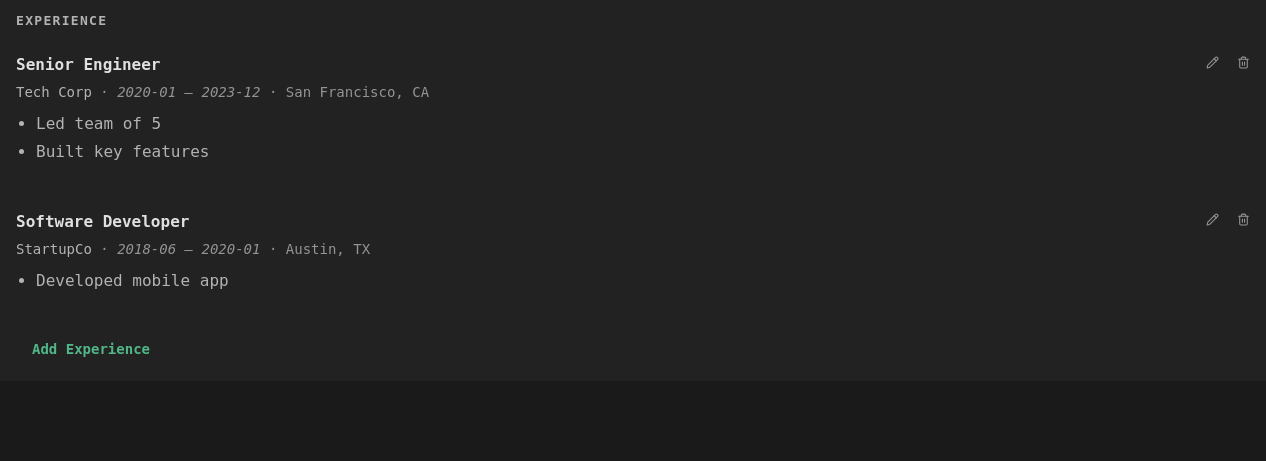
ExperienceSection (edit/add/delete) › edit mode › cancels edit mode when cancel clicked
Click the button named "edit" in the row of "Senior Engineer" at (1212, 62), box [1200,52,1225,73]
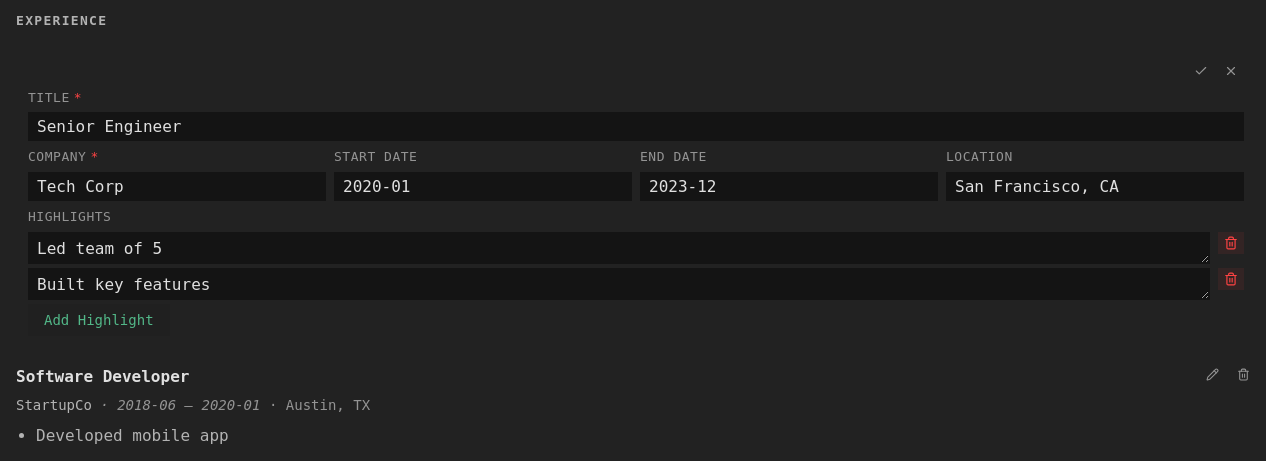
Result: the field labelled "Title*" is shown at [28,112,1244,141]
Click the button named "cancel" at (1231, 71), box [1218,60,1244,82]
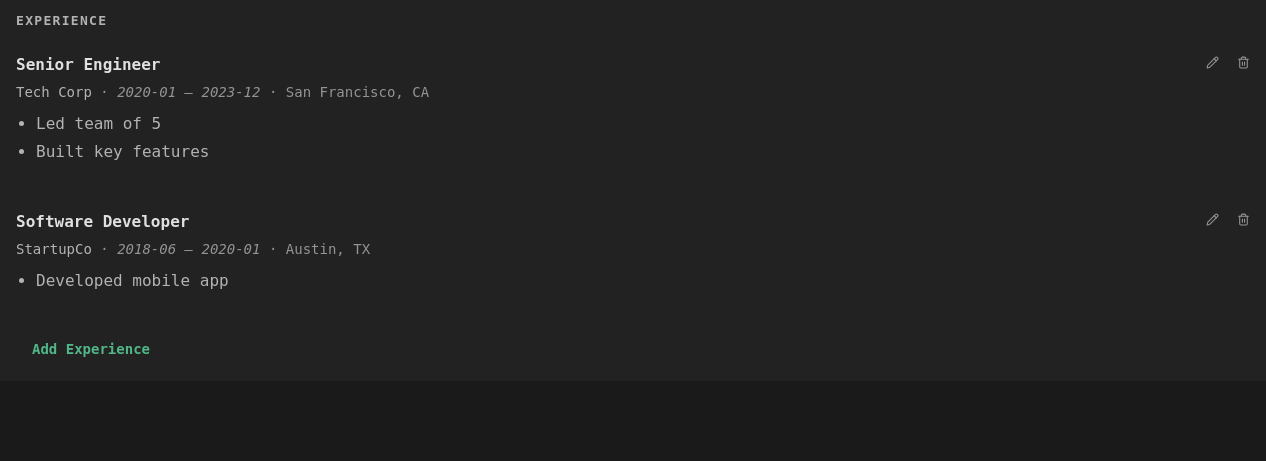
Result: the label labelled "Title" is gone
Result: the text "Senior Engineer" is shown at [16,55,160,74]
